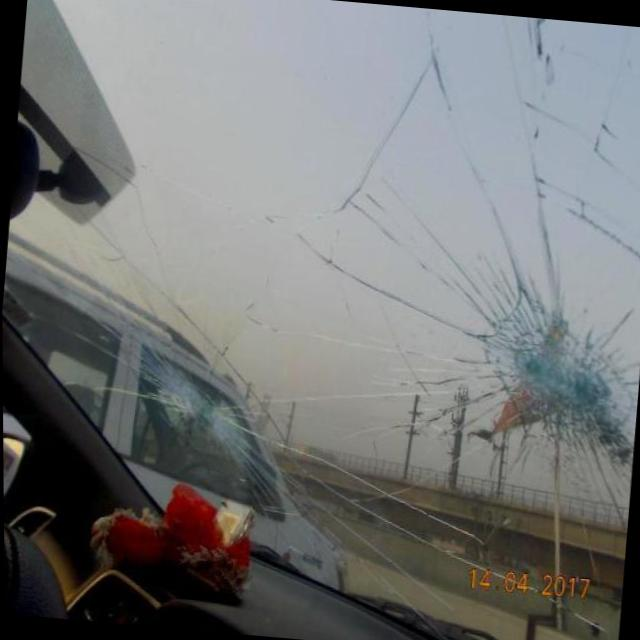Car-Damage: (488, 316, 619, 444), (145, 354, 233, 436)
